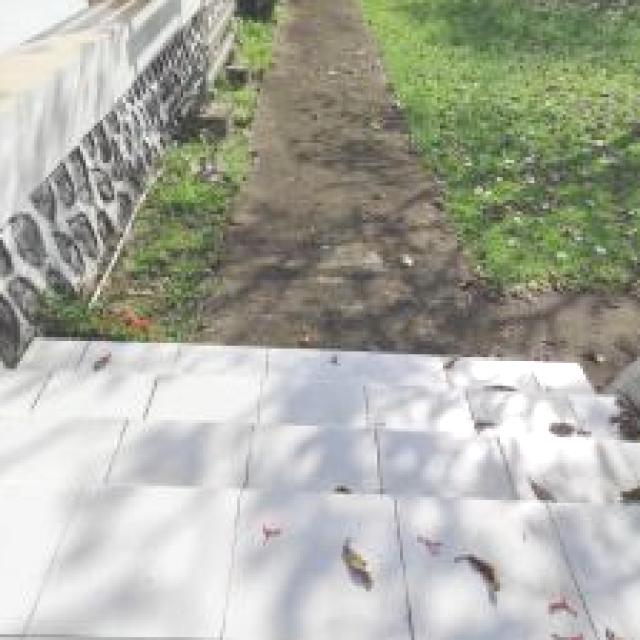downstair: (1, 327, 640, 584)
